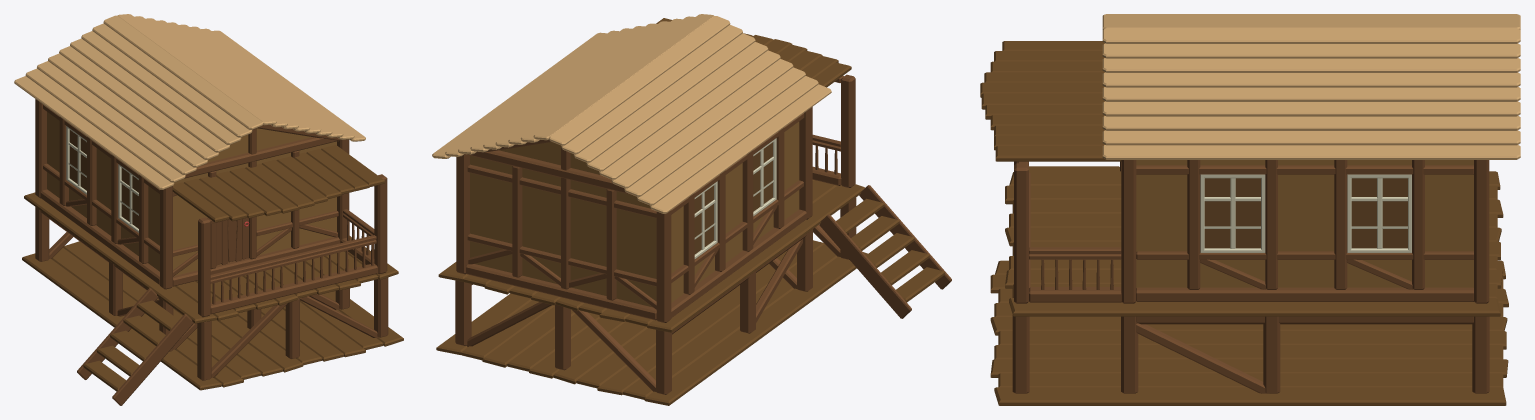
File: farmstractures_13.gltf
The picture shows the model from 3 angles, left to right: view 1: azimuth 30°, elevation 25°; view 2: azimuth 150°, elevation 25°; view 3: azimuth 270°, elevation 25°; orthographic projection. The views are drawn at different scales.
Parts seen in each view (by area): view 1: blades, body; view 2: blades, body; view 3: blades, body.
Part boxes in pixels (x1,y1,x2,y2): blades: [14, 14, 387, 316]; body: [14, 20, 403, 405]; blades: [433, 14, 855, 322]; body: [432, 15, 951, 405]; blades: [980, 14, 1519, 302]; body: [980, 15, 1520, 405].
Size of the model in its own units: 6.6 by 4.91 by 7.71.
1 material, 1 textured.
